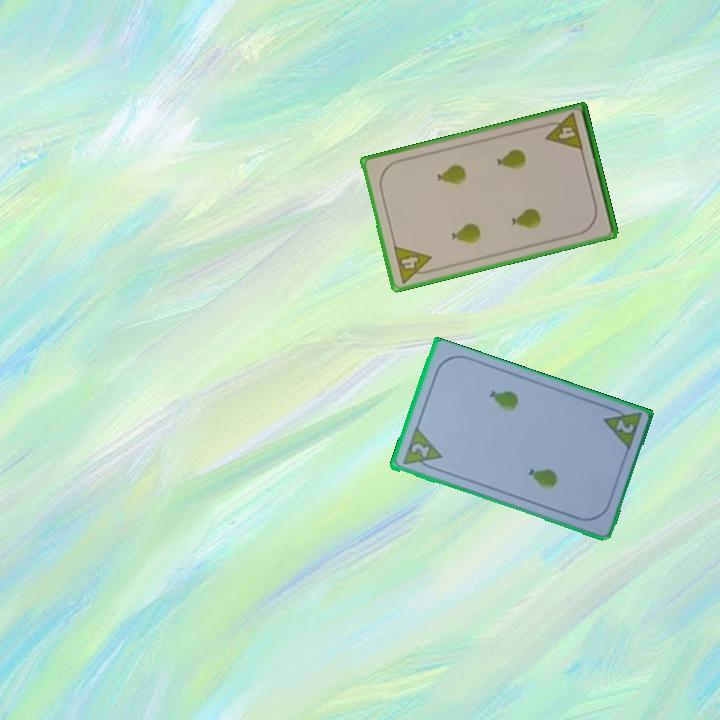2p: (398, 425, 444, 474), (612, 416, 637, 437)
4p: (390, 242, 437, 286), (540, 110, 586, 154)
